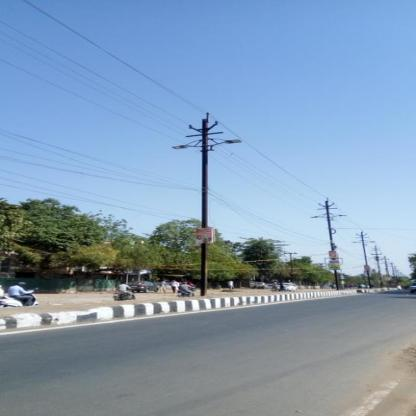Electrical Pole: (171, 110, 241, 300)
